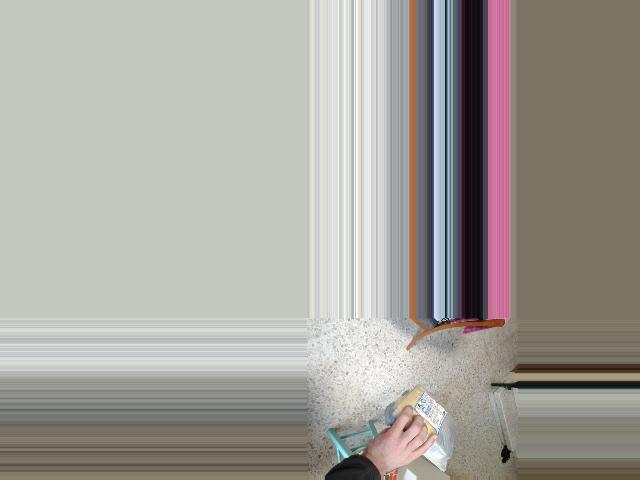cheese: (390, 387, 452, 469)
